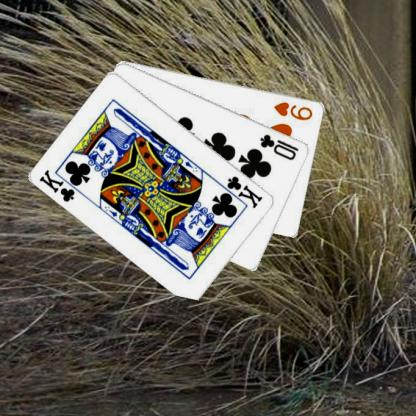10C: (258, 131, 300, 162)
9H: (272, 99, 314, 121)
KC: (36, 167, 86, 204), (217, 173, 264, 210)
